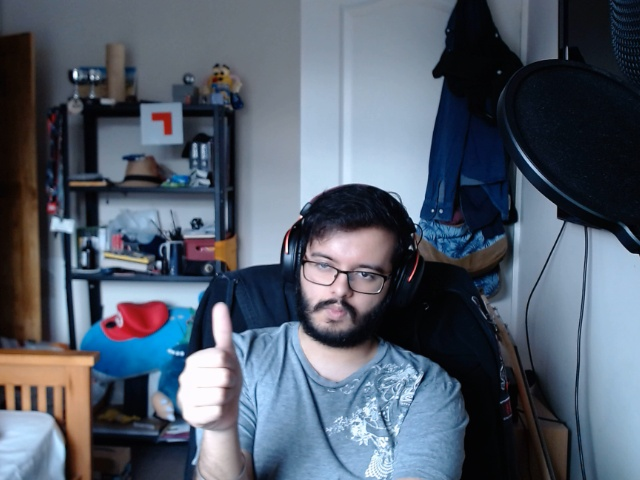Thumbs up: (171, 295, 246, 431)
